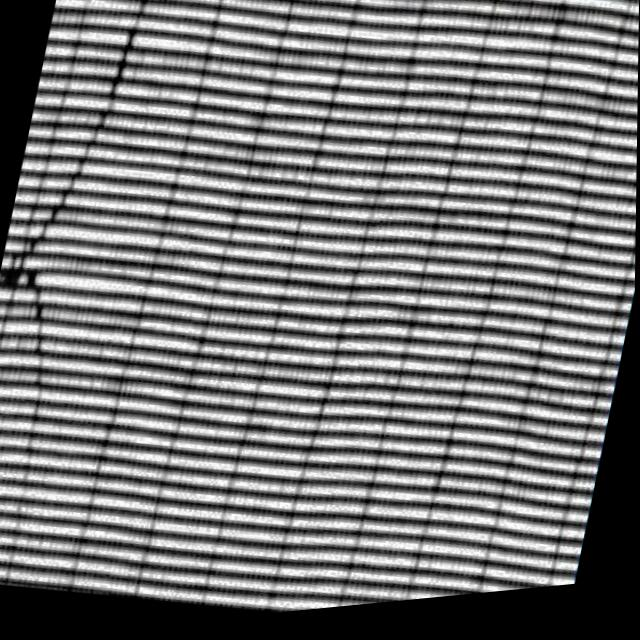Stitch: (0, 87, 127, 444)
